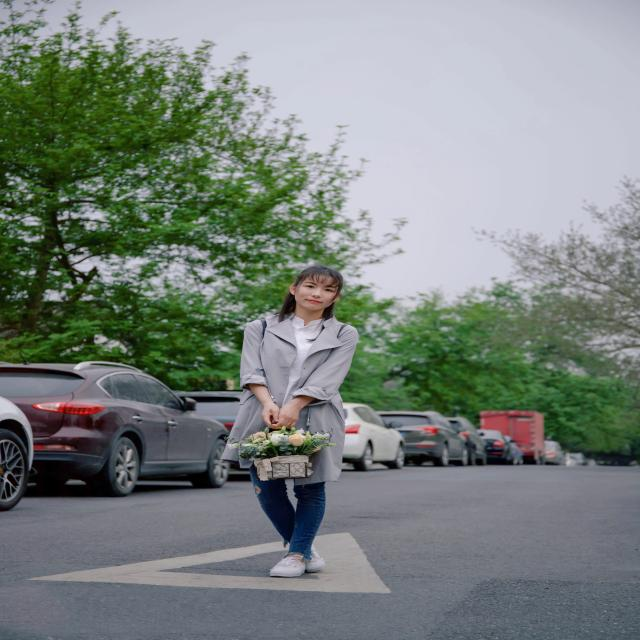adult: (232, 264, 354, 576)
